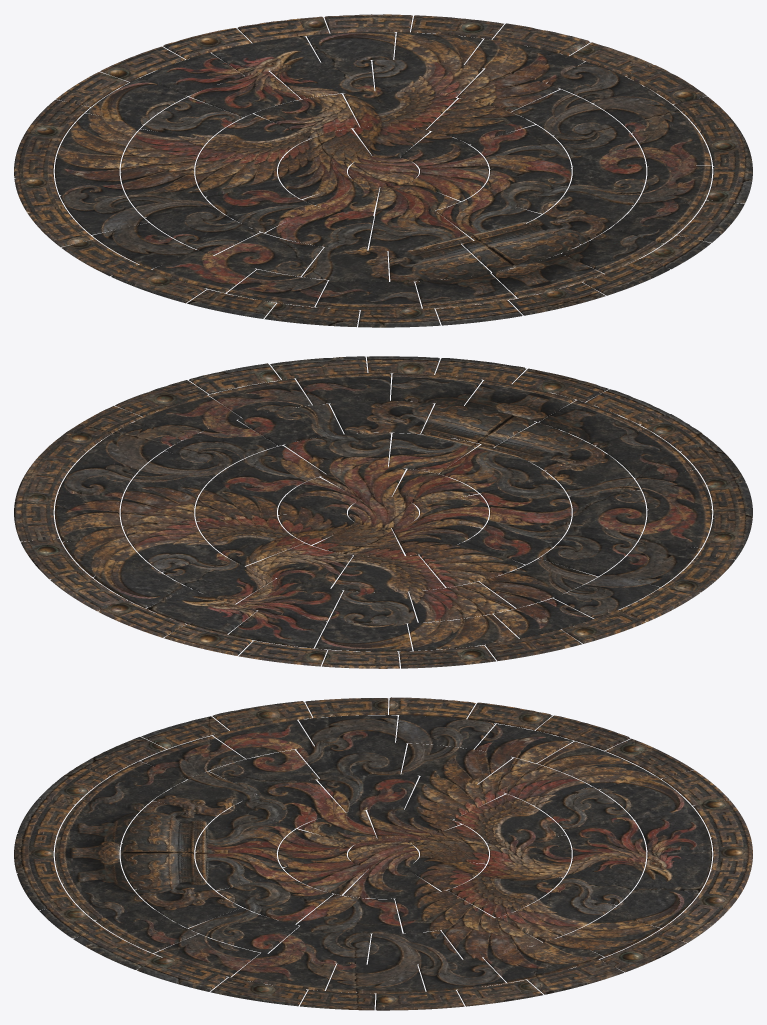
File: CinderFlagstones.glb
3 renders of one model, top to bottom at view 1: azimuth 30°, elevation 25°; view 2: azimuth 150°, elevation 25°; view 3: azimuth 270°, elevation 25°, orthographic.
Parts seen in each view (by area): view 1: CinderFlagstones; view 2: CinderFlagstones; view 3: CinderFlagstones.
Boxes of the visible parts, box(x1,y1,x2,y2) form: CinderFlagstones: box(14, 14, 752, 327); CinderFlagstones: box(14, 356, 752, 668); CinderFlagstones: box(14, 697, 752, 1010).
Size of the model in its own units: 12.68 by 0.05 by 12.68.
Materials: 1 (1 with a texture image).
